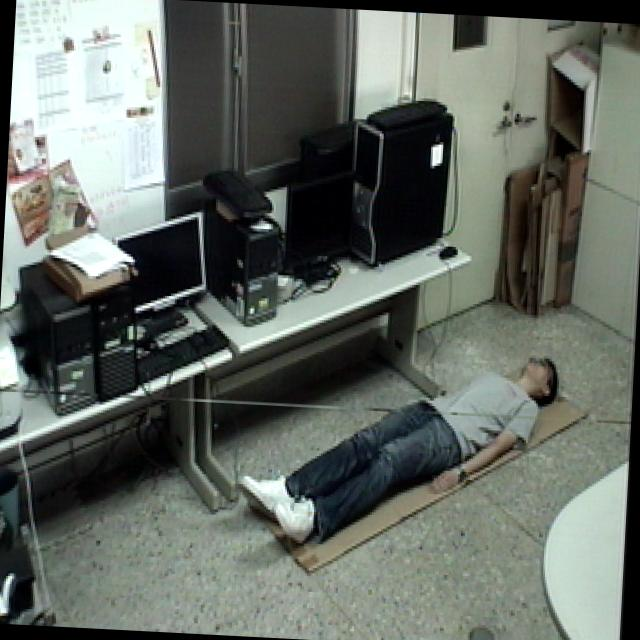lie: (228, 328, 570, 574)
